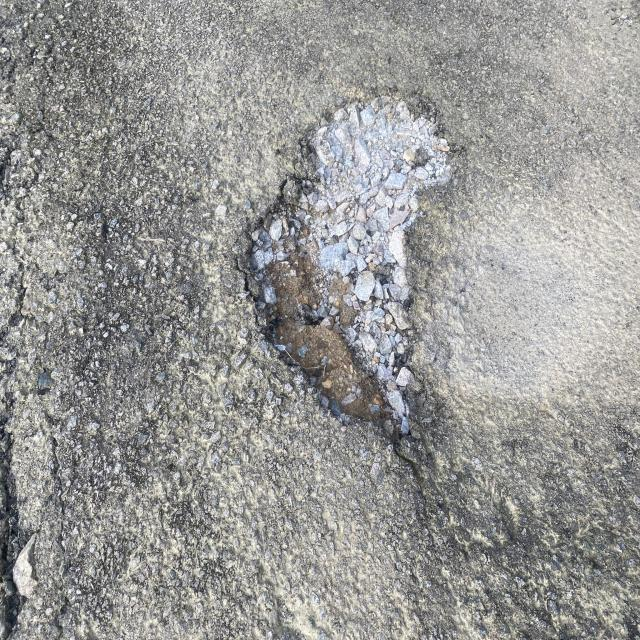pothole: (215, 64, 486, 505)
